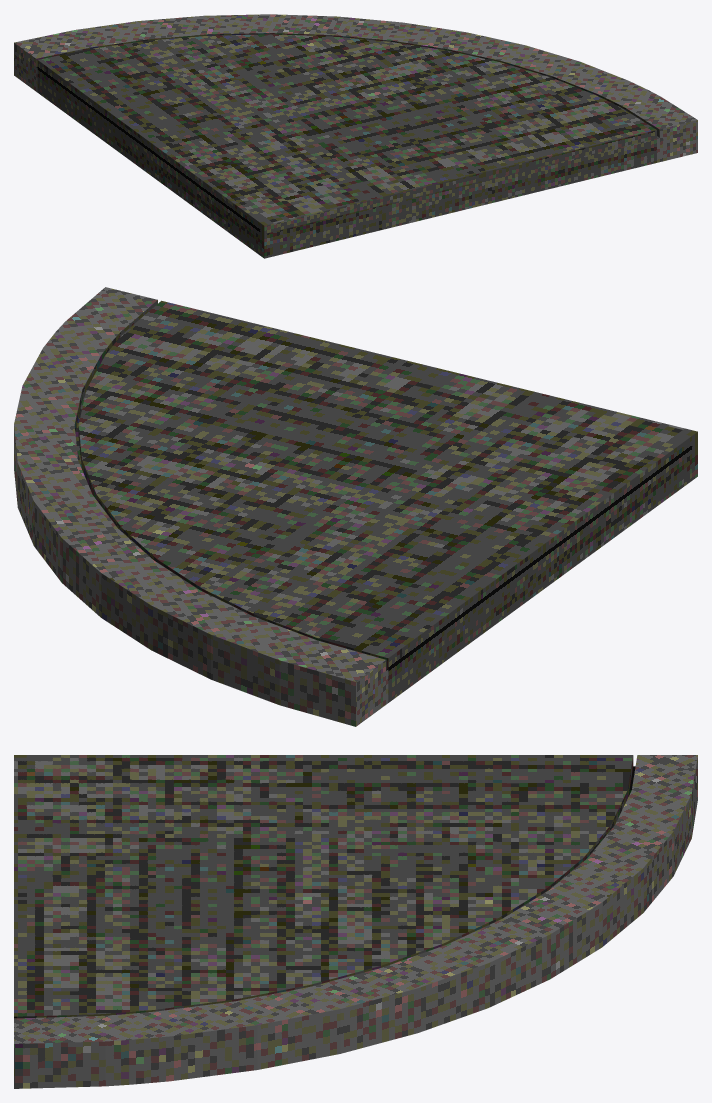
Rendered from Sidewalk_Curved.glb.
The picture shows the model from 3 angles, top to bottom: view 1: azimuth 30°, elevation 25°; view 2: azimuth 150°, elevation 25°; view 3: azimuth 270°, elevation 25°; orthographic projection. The views are drawn at different scales.
Visible parts, largest first — view 1: sidewalk_curve; view 2: sidewalk_curve; view 3: sidewalk_curve.
Boxes of the visible parts, bbox=[...] form: sidewalk_curve: bbox=[14, 14, 697, 258]; sidewalk_curve: bbox=[14, 287, 697, 726]; sidewalk_curve: bbox=[14, 755, 697, 1088].
Size of the model in its own units: 2.01 by 0.1453 by 2.01.
Materials: 1 (1 with a texture image).
